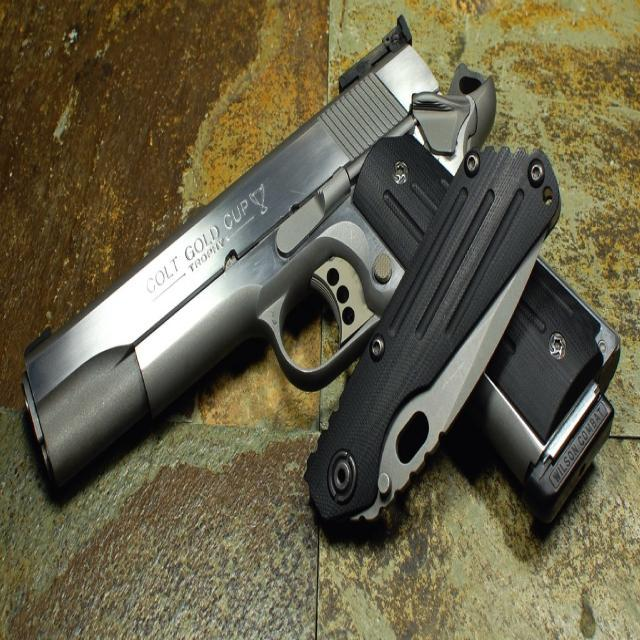Gun: (24, 19, 495, 482), (476, 260, 620, 521)
Knife: (306, 149, 560, 520)
